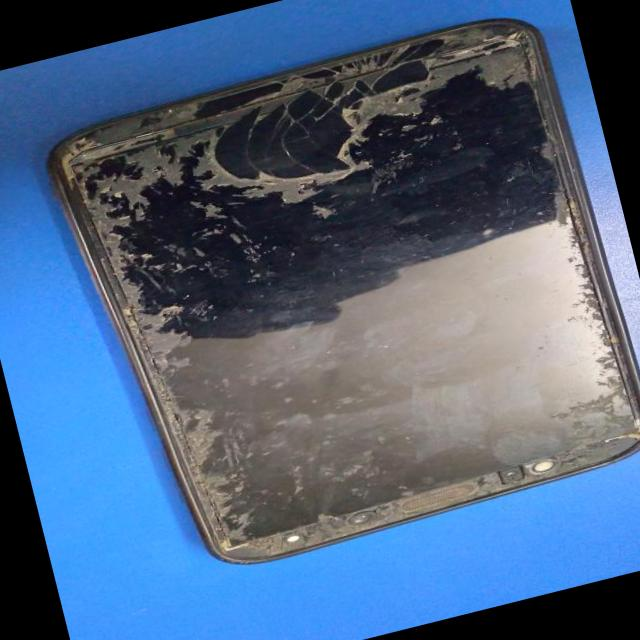screen crack: (48, 2, 640, 586)
